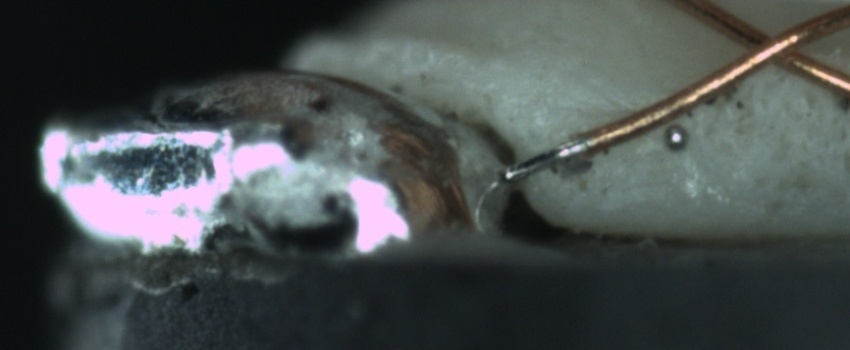CL: (718, 11, 827, 80)
DL: (543, 88, 672, 135)
TS: (506, 134, 592, 182)
